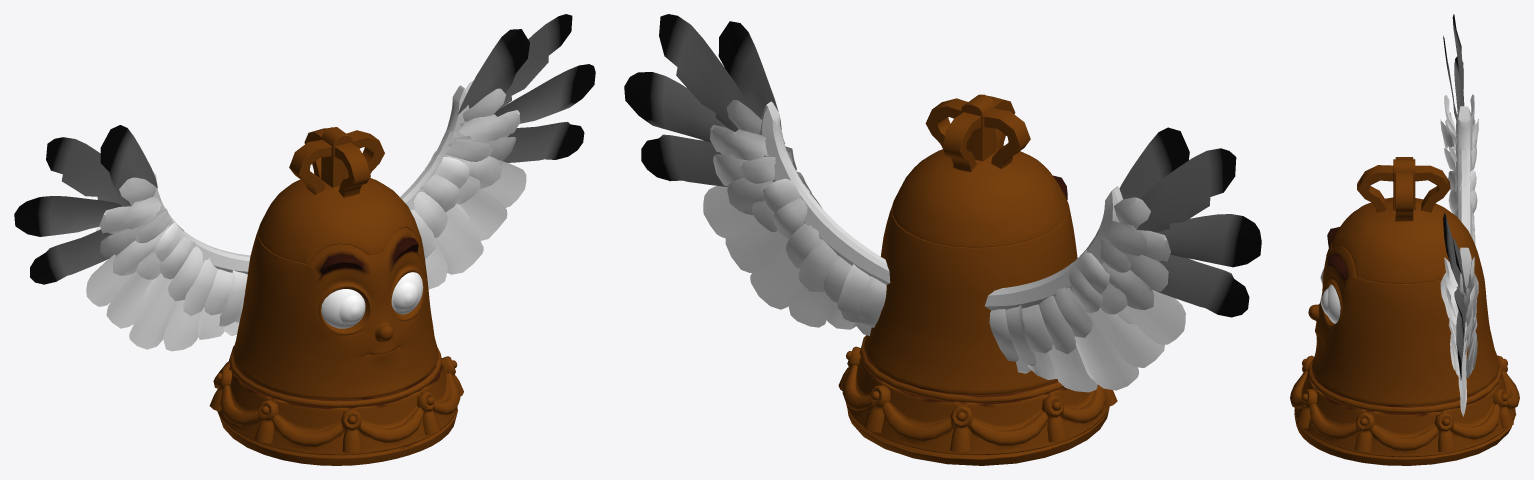
The model's file is BimModel.fbx.
3 views of the same model, side by side, from view 1: azimuth 30°, elevation 25°; view 2: azimuth 150°, elevation 25°; view 3: azimuth 270°, elevation 25° (orthographic). The views are drawn at different scales.
Parts seen in each view (by area): view 1: body_C_001_GEO1, finger_R_002_GEO1, finger_R_001_GEO1, finger_L_002_GEO1, thumb_L_001_GEO1, finger_L_003_GEO1, finger_R_003_GEO1, thumb_R_001_GEO1, feather_R_015_GEO1, finger_L_001_GEO1, feather_L_015_GEO1, wingBone_L_001_GEO1 (+29 smaller); view 2: body_C_001_GEO1, finger_R_001_GEO1, finger_L_001_GEO1, wingBone_L_001_GEO1, finger_R_002_GEO1, finger_L_002_GEO1, finger_R_003_GEO1, finger_L_003_GEO1, thumb_L_001_GEO1, wingBone_R_001_GEO1, thumb_R_001_GEO1, feather_R_015_GEO1 (+32 smaller); view 3: body_C_001_GEO1, wingBone_R_001_GEO1, eyeOutside_L_001_GEO1, wingBone_L_001_GEO1, thumb_L_001_GEO1, finger_L_003_GEO1, finger_R_001_GEO1, finger_R_002_GEO1.
Part boxes in pixels (x1,y1,x2,y2): body_C_001_GEO1: (209,127,463,465); finger_R_002_GEO1: (14,196,121,236); finger_R_001_GEO1: (46,137,131,206); finger_L_002_GEO1: (494,64,595,123); thumb_L_001_GEO1: (457,29,529,115); finger_L_003_GEO1: (502,122,584,162); finger_R_003_GEO1: (30,229,113,284); thumb_R_001_GEO1: (100,125,157,204); feather_R_015_GEO1: (129,273,176,349); finger_L_001_GEO1: (496,14,572,111); feather_L_015_GEO1: (435,203,483,274); wingBone_L_001_GEO1: (400,85,469,210); body_C_001_GEO1: (838,94,1117,465); finger_R_001_GEO1: (1136,148,1236,232); finger_L_001_GEO1: (659,14,752,131); wingBone_L_001_GEO1: (759,101,890,284); finger_R_002_GEO1: (1156,214,1261,267); finger_L_002_GEO1: (624,72,730,142); finger_R_003_GEO1: (1154,254,1249,317); finger_L_003_GEO1: (641,134,727,186); thumb_L_001_GEO1: (718,21,781,129); wingBone_R_001_GEO1: (985,186,1122,310); thumb_R_001_GEO1: (1119,127,1189,199); feather_R_015_GEO1: (1074,311,1138,390); body_C_001_GEO1: (1290,157,1519,465); wingBone_R_001_GEO1: (1456,106,1472,238); eyeOutside_L_001_GEO1: (1320,284,1340,323); wingBone_L_001_GEO1: (1456,247,1471,323); thumb_L_001_GEO1: (1443,213,1460,287); finger_L_003_GEO1: (1456,302,1465,379); finger_R_001_GEO1: (1452,14,1464,106); finger_R_002_GEO1: (1454,56,1463,112).
Size of the model in its own units: 85.28 by 48.17 by 31.91.
